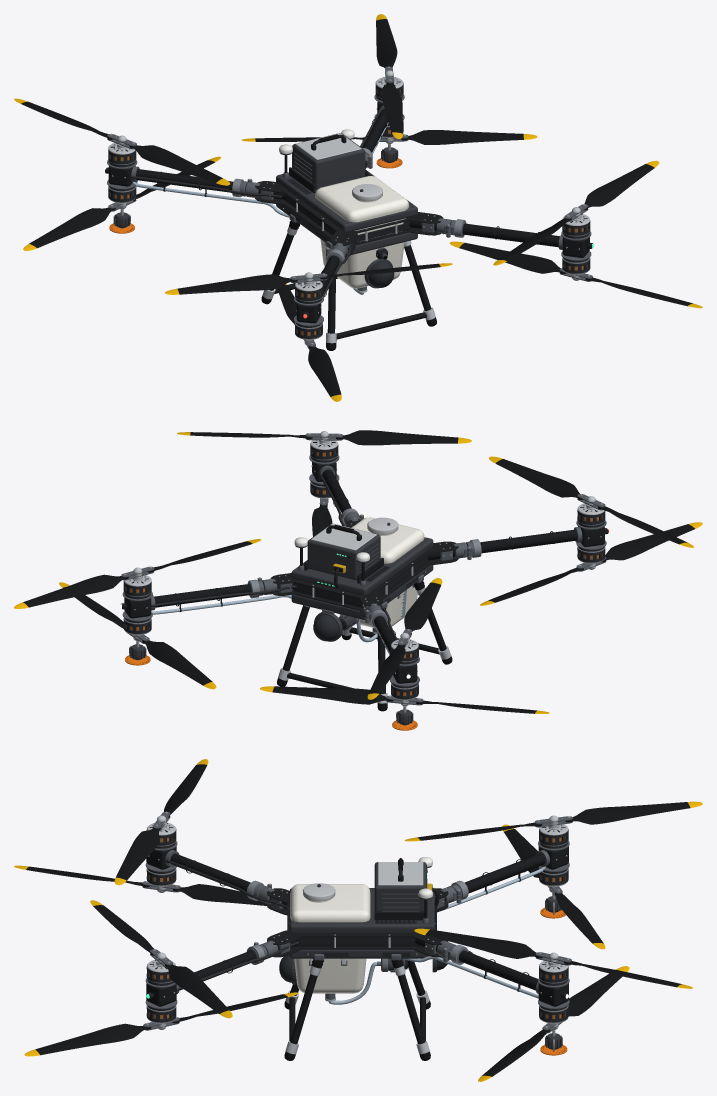
3 views of the same model, one above another, from view 1: azimuth 30°, elevation 25°; view 2: azimuth 150°, elevation 25°; view 3: azimuth 270°, elevation 25° (orthographic). The views are drawn at different scales.
Parts seen in each view (by area): view 1: tank, body, battery, gear, prop_2, frame, prop_3, prop_1, prop_5, prop_4, prop_8, prop_7 (+8 smaller); view 2: body, battery, tank, gear, prop_1, frame, prop_4, prop_2, prop_7, prop_3, prop_6, prop_8 (+14 smaller); view 3: tank, body, gear, battery, prop_3, prop_4, frame, prop_5, prop_1, prop_2, prop_8, prop_6 (+14 smaller).
Boxes of the visible parts, <box> form: tank: <box>315,176,409,292</box>; body: <box>276,167,417,254</box>; battery: <box>292,133,365,189</box>; gear: <box>261,214,436,350</box>; prop_2: <box>165,263,452,294</box>; frame: <box>255,160,442,257</box>; prop_3: <box>14,98,230,185</box>; prop_1: <box>493,160,659,265</box>; prop_5: <box>449,241,702,308</box>; prop_4: <box>376,14,403,138</box>; prop_8: <box>242,130,537,144</box>; prop_7: <box>23,156,221,250</box>; body: <box>291,537,433,619</box>; battery: <box>307,523,380,588</box>; tank: <box>339,517,424,634</box>; gear: <box>277,574,452,711</box>; prop_1: <box>177,430,471,445</box>; frame: <box>270,519,458,616</box>; prop_4: <box>14,539,261,608</box>; prop_2: <box>489,456,693,547</box>; prop_7: <box>260,686,549,713</box>; prop_3: <box>367,578,442,699</box>; prop_6: <box>480,522,702,605</box>; prop_8: <box>59,582,216,689</box>; tank: <box>290,883,370,1001</box>; body: <box>289,888,435,958</box>; gear: <box>284,954,430,1060</box>; battery: <box>374,858,439,911</box>; prop_3: <box>404,801,702,841</box>; prop_4: <box>414,928,692,988</box>; frame: <box>267,888,448,957</box>; prop_5: <box>24,992,298,1056</box>; prop_1: <box>90,900,232,1018</box>; prop_2: <box>114,759,208,885</box>; prop_8: <box>478,966,629,1081</box>; prop_6: <box>14,865,266,905</box>.
Size of the model in its own units: 2.7 by 0.8342 by 3.04.
